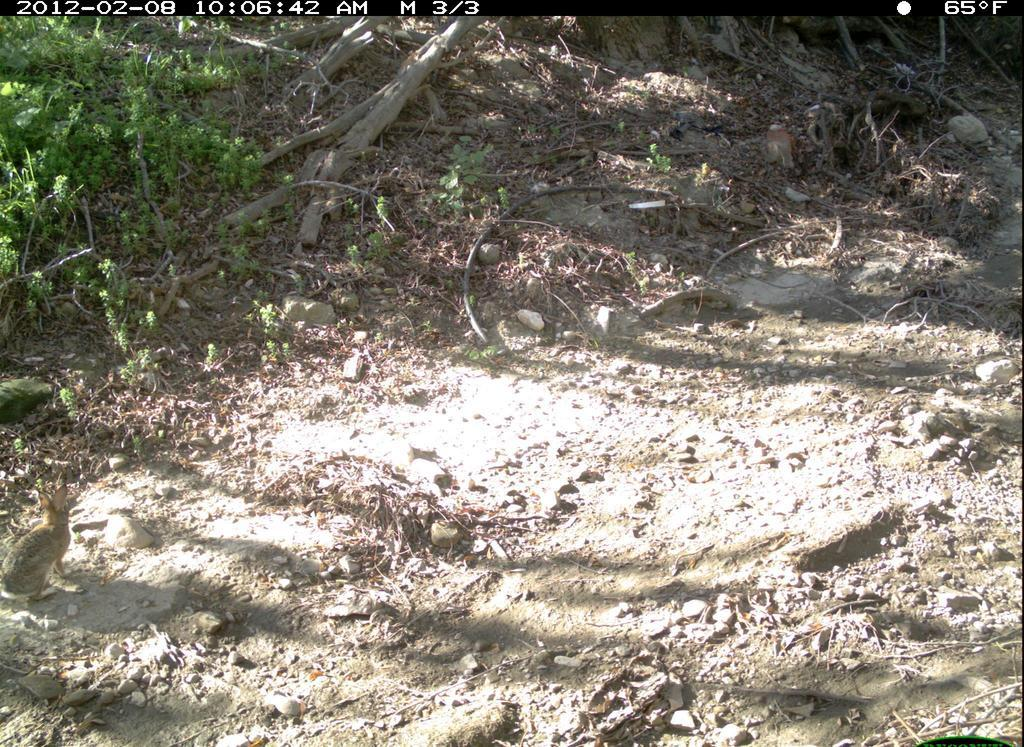rabbit: (4, 477, 93, 619)
